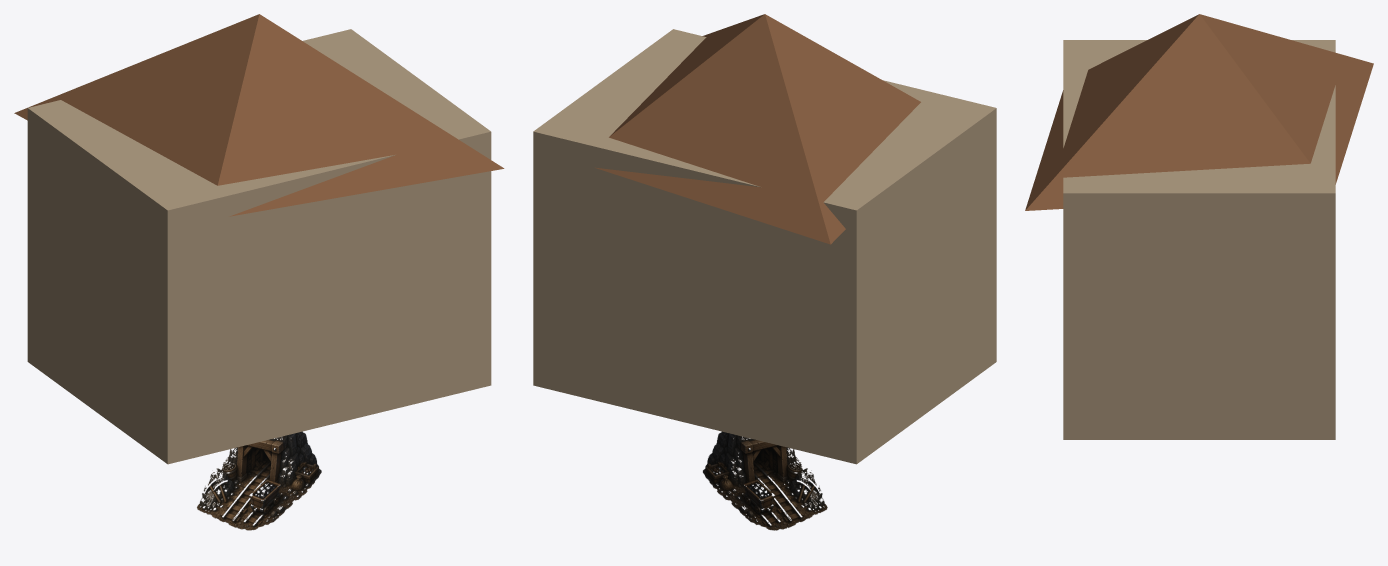
Rendered from miniera.glb.
The picture shows the model from 3 angles, left to right: view 1: azimuth 30°, elevation 25°; view 2: azimuth 150°, elevation 25°; view 3: azimuth 270°, elevation 25°; orthographic projection. The views are drawn at different scales.
Visible parts, largest first — view 1: Body, Roof, CatalogTexture; view 2: Body, Roof, CatalogTexture; view 3: Body, Roof.
Part boxes in pixels (x1,y1,x2,y2): Body: (27,29,491,464); Roof: (14,14,504,216); CatalogTexture: (196,431,321,530); Body: (533,29,996,464); Roof: (595,14,920,244); CatalogTexture: (702,431,827,530); Body: (1063,40,1335,439); Roof: (1025,14,1373,210).
Size of the model in its own units: 2 by 3.09 by 1.92.
3 materials, 1 textured.
